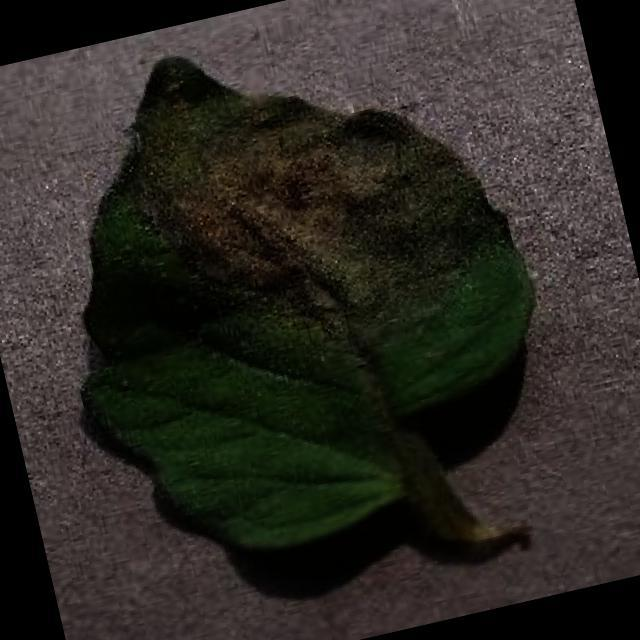Tomato late blight leaf: (6, 0, 579, 586)
